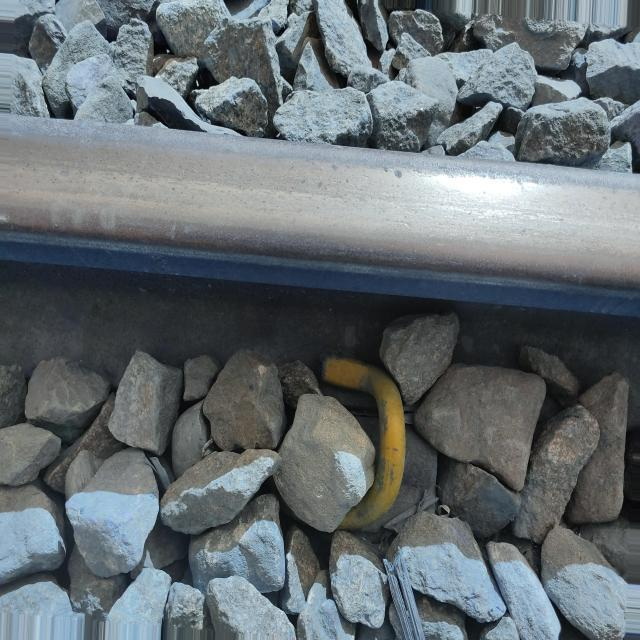squats_high: (395, 169, 404, 181), (331, 160, 339, 172)
